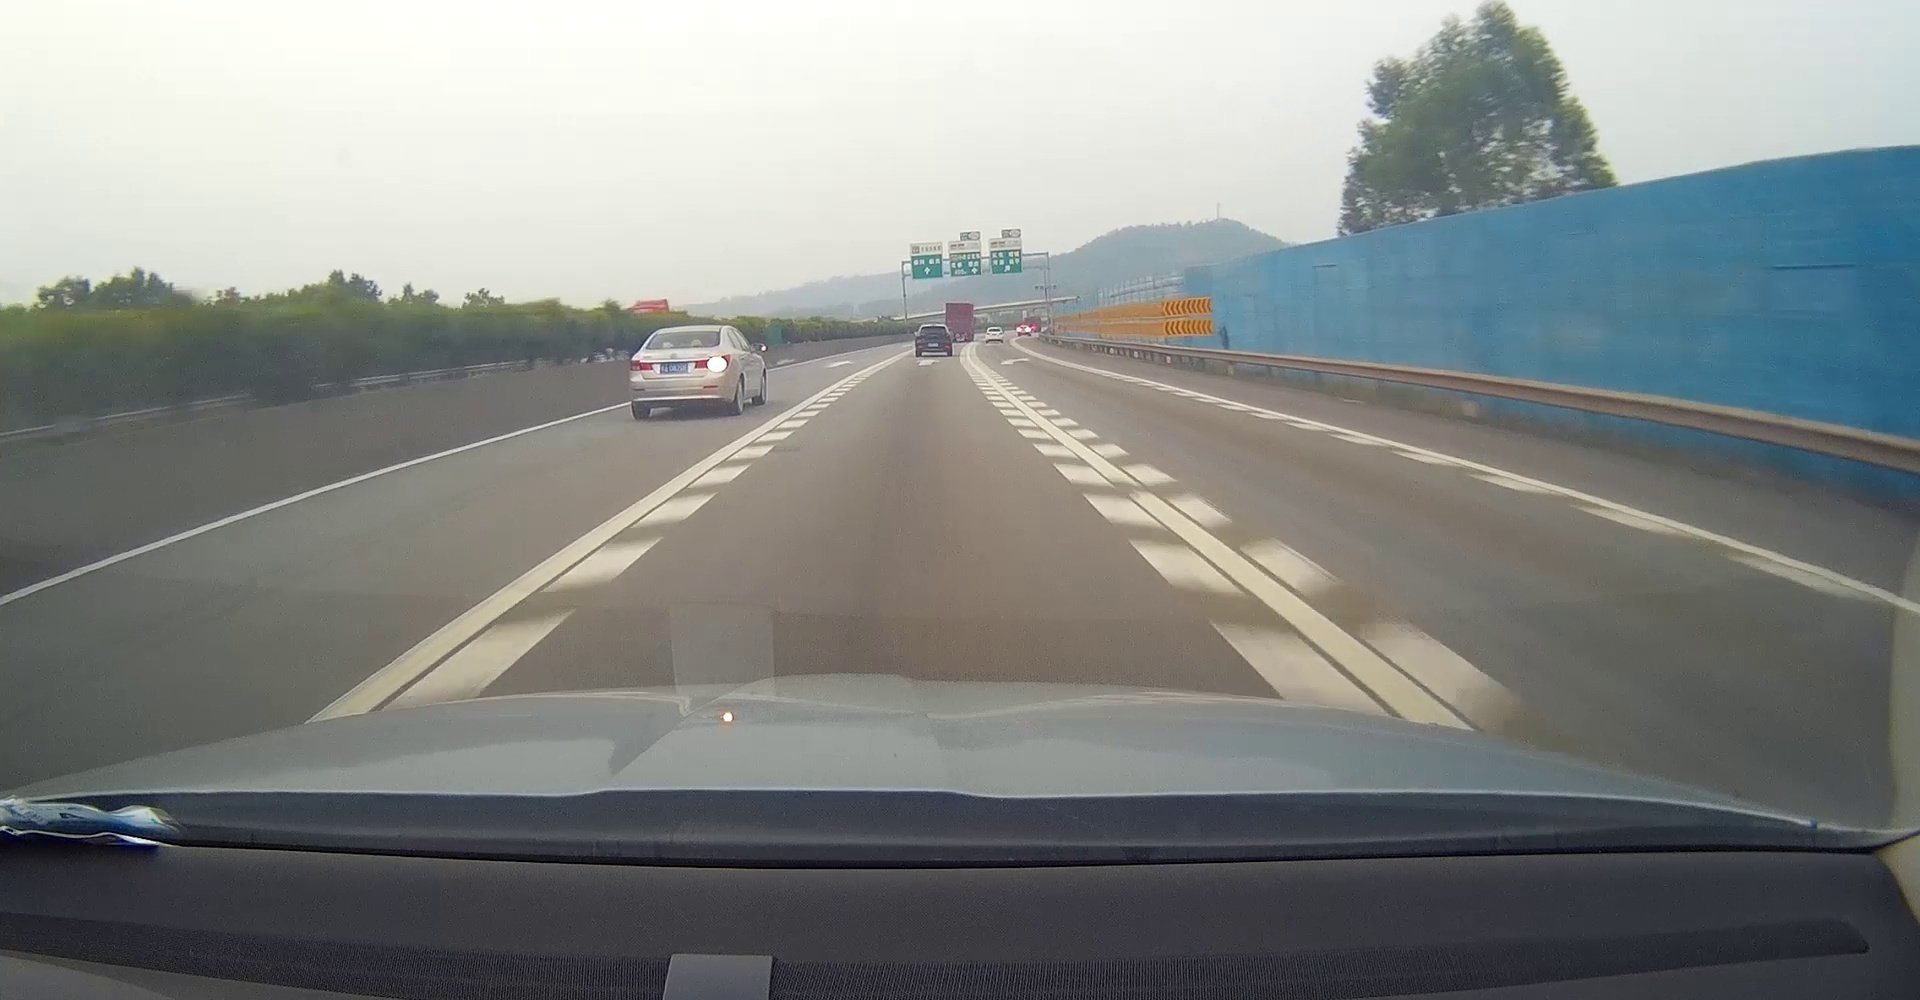L_light: (630, 359, 654, 371), (916, 336, 923, 340)
R_light: (695, 354, 729, 372), (943, 336, 950, 339)
T_light: (681, 330, 695, 334), (930, 326, 937, 327)
day-no: (916, 324, 952, 357)
day-right: (629, 325, 731, 420)
